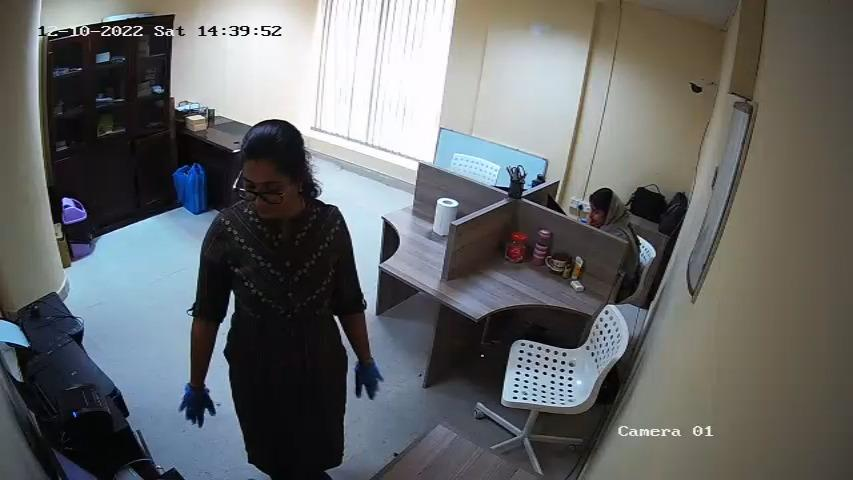gloves: (176, 383, 218, 430), (354, 354, 386, 400)
